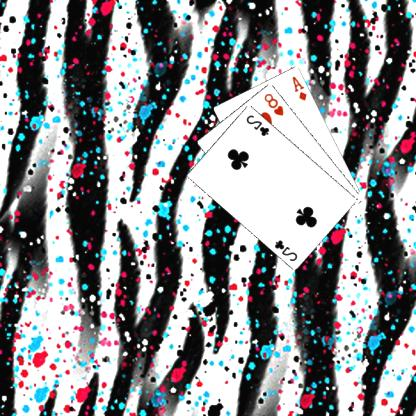2C: (245, 112, 273, 138), (273, 237, 301, 262)
8H: (263, 90, 287, 116)
AD: (292, 73, 310, 102)
